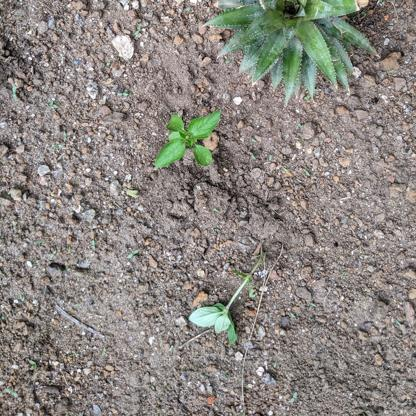pineapple: (204, 1, 381, 109)
weed: (191, 263, 257, 344), (150, 109, 224, 174)
